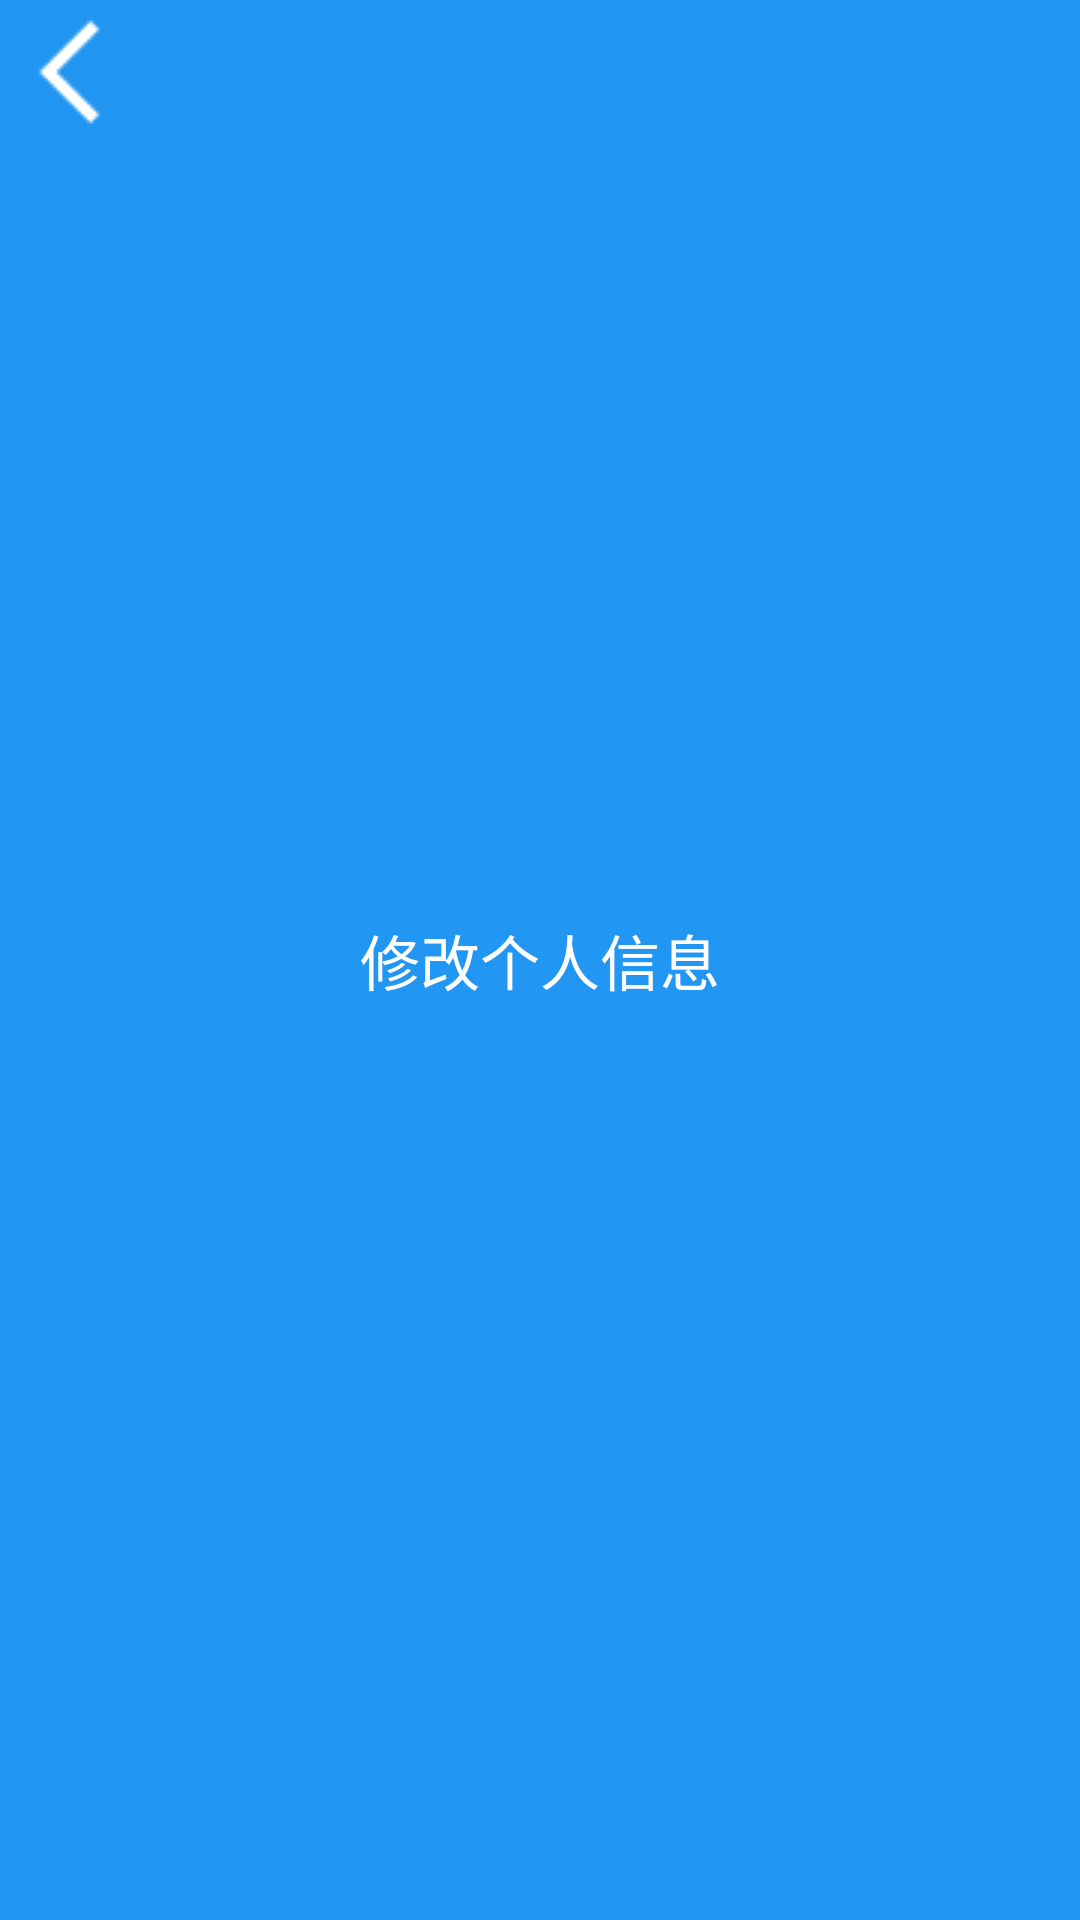

Icon bounding boxes for this 1080px×1920px phone screenshot, format Rect(x1, y1, x2, y2):
left: Rect(38, 20, 100, 124)
